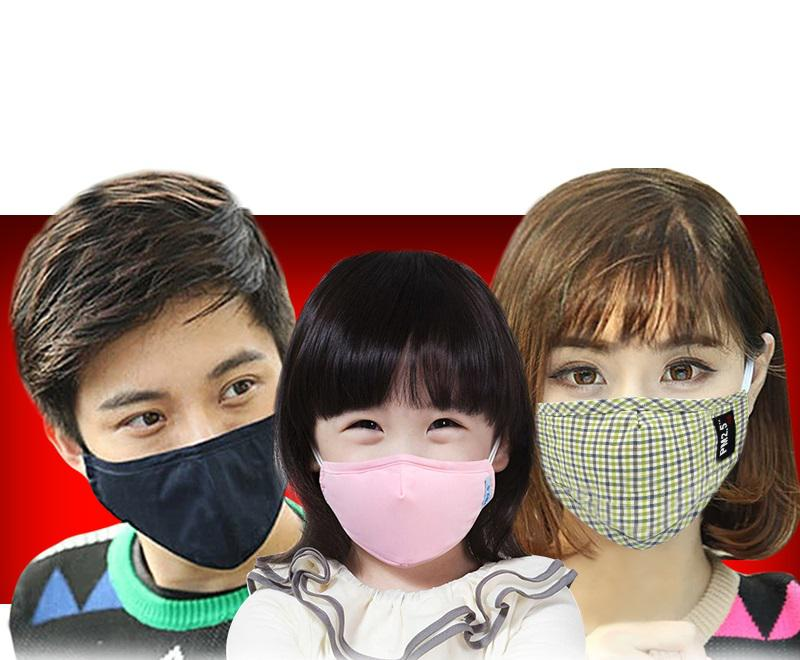OK: (525, 308, 757, 540), (85, 333, 308, 556), (326, 387, 504, 565)
